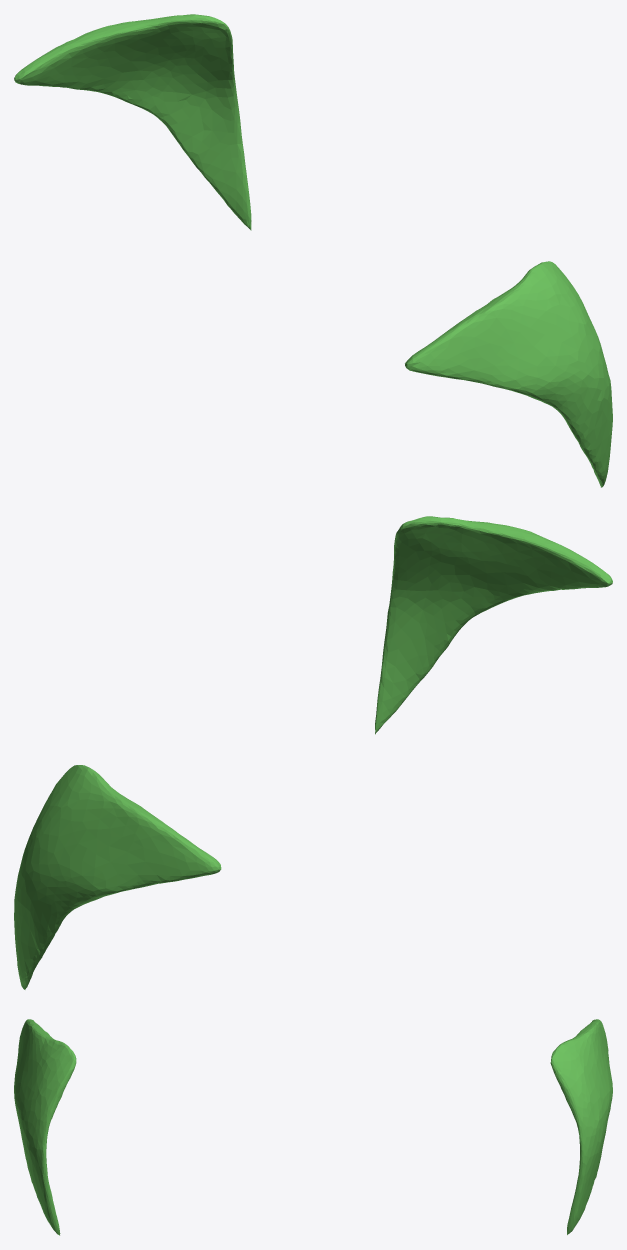
The picture shows the model from 3 angles, top to bottom: view 1: azimuth 30°, elevation 25°; view 2: azimuth 150°, elevation 25°; view 3: azimuth 270°, elevation 25°; orthographic projection. The views are drawn at different scales.
Visible parts, largest first — view 1: 52.obj; view 2: 52.obj; view 3: 52.obj.
Boxes of the visible parts, x1,y1,x2,y2 form: 52.obj: (14, 14, 612, 487); 52.obj: (14, 516, 612, 989); 52.obj: (14, 1019, 612, 1235).
Size of the model in its own units: 2877 by 2955 by 9425.
